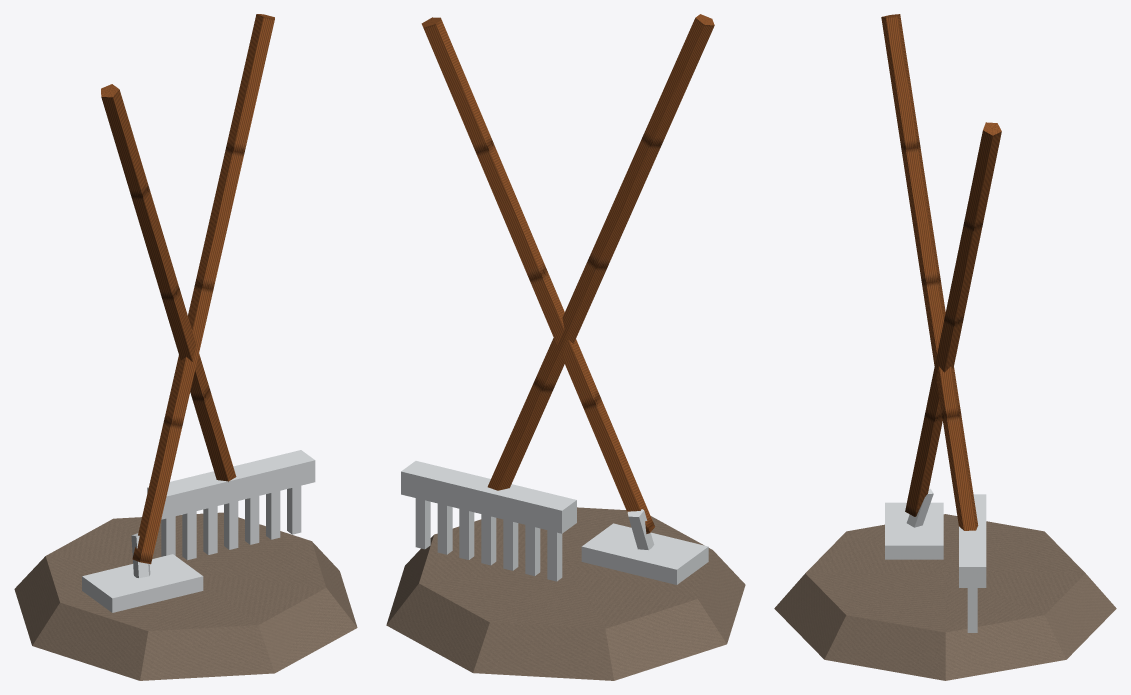
The model's file is allotments-and-community-garden-hoe-and-rake-7317c39c__35157.glb.
3 renders of one model, left to right at view 1: azimuth 30°, elevation 25°; view 2: azimuth 150°, elevation 25°; view 3: azimuth 270°, elevation 25°, orthographic. The views are drawn at different scales.
Parts seen in each view (by area): view 1: hoe-and-rake-soil, hoe-and-rake-timber, hoe-and-rake-galv; view 2: hoe-and-rake-soil, hoe-and-rake-timber, hoe-and-rake-galv; view 3: hoe-and-rake-soil, hoe-and-rake-timber, hoe-and-rake-galv.
Part boxes in pixels (x1,y1,x2,y2): hoe-and-rake-soil: (14, 512, 357, 680); hoe-and-rake-timber: (101, 14, 274, 564); hoe-and-rake-galv: (82, 450, 315, 612); hoe-and-rake-soil: (386, 507, 745, 680); hoe-and-rake-timber: (421, 14, 714, 533); hoe-and-rake-galv: (401, 461, 708, 584); hoe-and-rake-soil: (774, 514, 1116, 680); hoe-and-rake-timber: (881, 14, 1001, 530); hoe-and-rake-galv: (885, 488, 986, 632).
Size of the model in its own units: 0.88 by 1.55 by 0.88.
3 materials, 2 textured.
